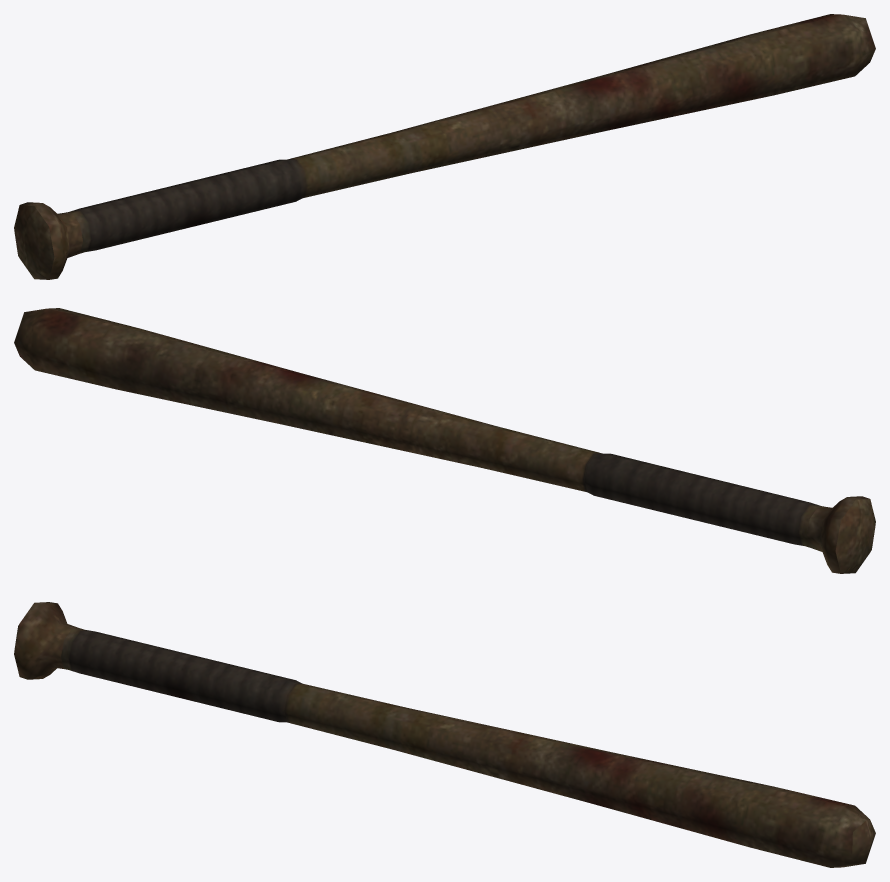
The model's file is baseball_bat_mx_2.dae.
3 views of the same model, one above another, from view 1: azimuth 30°, elevation 25°; view 2: azimuth 150°, elevation 25°; view 3: azimuth 330°, elevation 25° (orthographic).
Visible parts, largest first — view 1: baseball_bat_mx_2; view 2: baseball_bat_mx_2; view 3: baseball_bat_mx_2.
Part boxes in pixels (<box>): baseball_bat_mx_2: <box>14,14,875,279</box>; baseball_bat_mx_2: <box>14,308,875,573</box>; baseball_bat_mx_2: <box>14,602,875,867</box>.
Bounding box in the file's own units: 1.24 × 0.1053 × 0.1053.
1 material, 1 textured.
